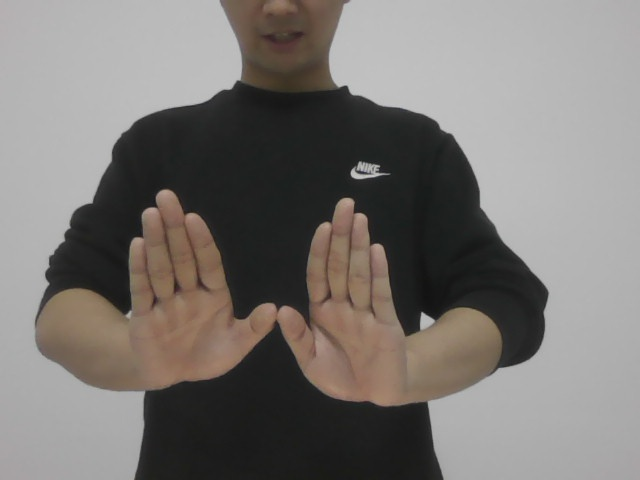door: (130, 179, 418, 409)
